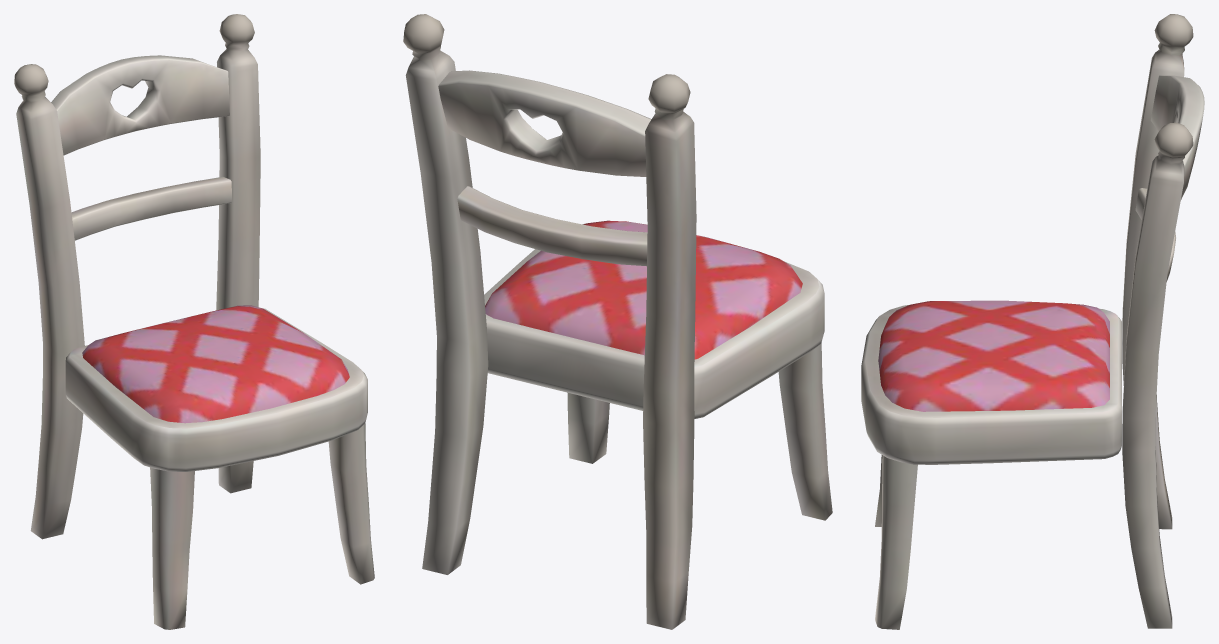
3 views of the same model, side by side, from view 1: azimuth 30°, elevation 25°; view 2: azimuth 150°, elevation 25°; view 3: azimuth 270°, elevation 25° (orthographic). The views are drawn at different scales.
Bounding box in the file's own units: 5.81 × 10.86 × 6.72.
1 material, 1 textured.
